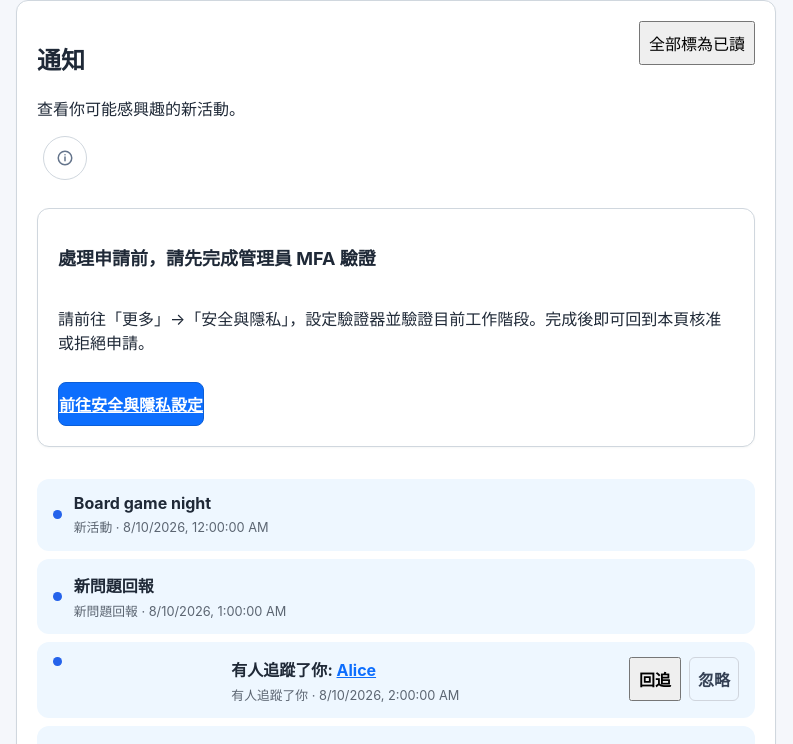
Test case: NotificationsPage › marks all unread notifications as read
Click the button "全部標為已讀": point(697, 43) [639,21,755,65]
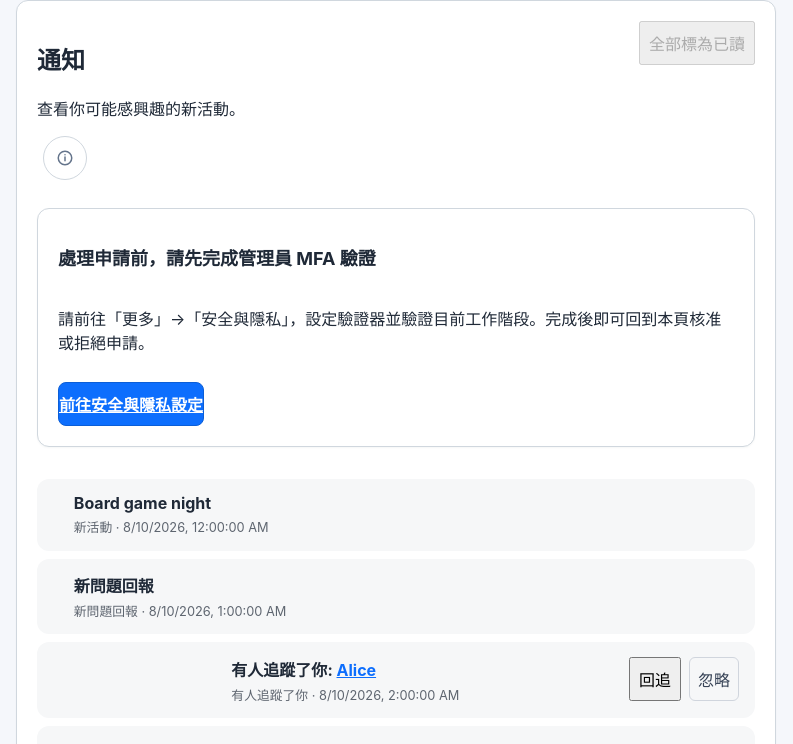
expect the button "全部標為已讀" is disabled: met, box [639,21,755,65]
